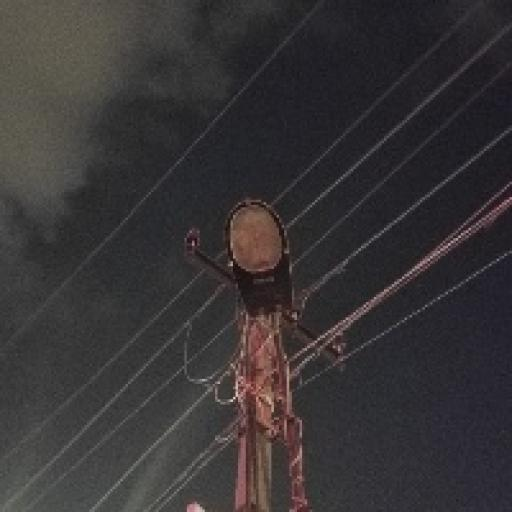Not Working: (201, 186, 318, 327)
